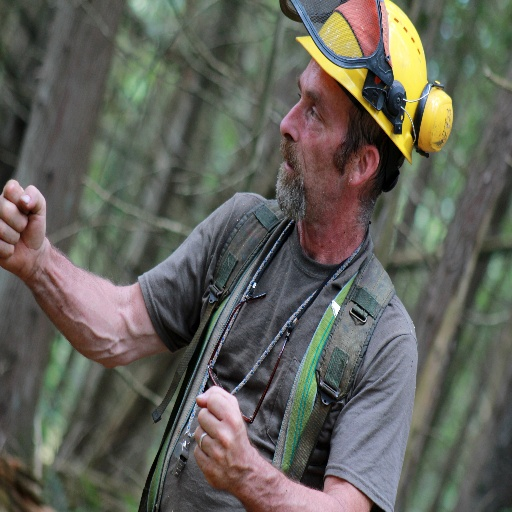hand: (192, 381, 254, 493), (0, 174, 46, 276)
